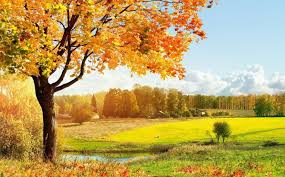forest: (57, 116, 283, 176), (72, 89, 284, 119)
tree: (1, 1, 187, 145)
